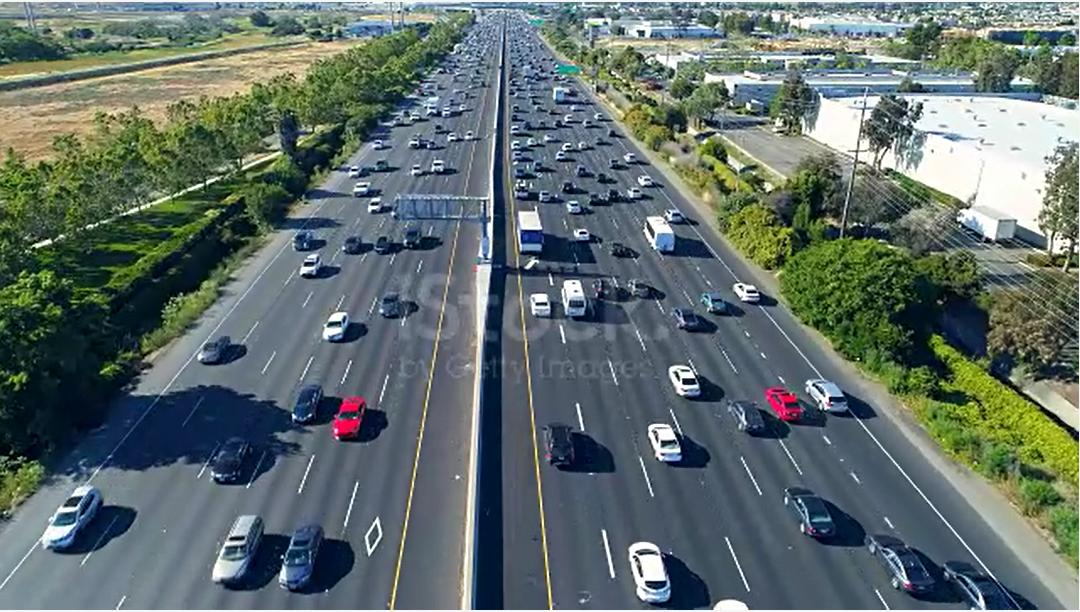bus: (508, 203, 555, 263)
car: (17, 473, 134, 560), (254, 510, 345, 599), (926, 543, 1018, 612), (208, 497, 272, 592), (525, 404, 596, 489), (850, 530, 934, 599), (773, 470, 841, 551), (639, 415, 703, 492), (203, 420, 266, 492), (622, 533, 679, 602), (325, 395, 380, 455), (663, 350, 712, 412), (300, 310, 369, 350), (185, 321, 242, 368), (283, 377, 329, 435), (556, 273, 598, 328), (639, 215, 689, 261), (763, 375, 803, 432), (809, 373, 852, 421), (662, 303, 713, 343), (723, 393, 764, 441), (690, 283, 733, 327), (519, 279, 559, 326), (658, 195, 698, 236), (376, 281, 403, 328), (733, 279, 775, 307), (338, 223, 365, 261), (283, 223, 315, 254), (399, 213, 420, 259), (298, 245, 323, 282), (620, 275, 649, 301), (616, 146, 641, 170), (510, 179, 530, 209), (364, 192, 388, 216), (371, 235, 395, 258), (429, 156, 453, 179), (373, 153, 392, 181), (570, 225, 590, 251), (565, 198, 589, 219), (570, 159, 591, 183), (634, 170, 656, 192), (349, 179, 373, 199), (609, 239, 626, 264), (406, 133, 427, 153), (367, 138, 392, 154), (530, 155, 547, 177), (624, 184, 644, 202), (348, 156, 360, 185), (535, 189, 554, 207), (540, 132, 560, 149), (440, 132, 462, 146), (410, 164, 425, 182), (563, 177, 578, 193), (591, 133, 606, 149), (513, 150, 529, 163), (556, 148, 570, 161), (592, 110, 602, 124), (580, 118, 591, 130), (515, 165, 524, 179), (578, 138, 588, 149)
